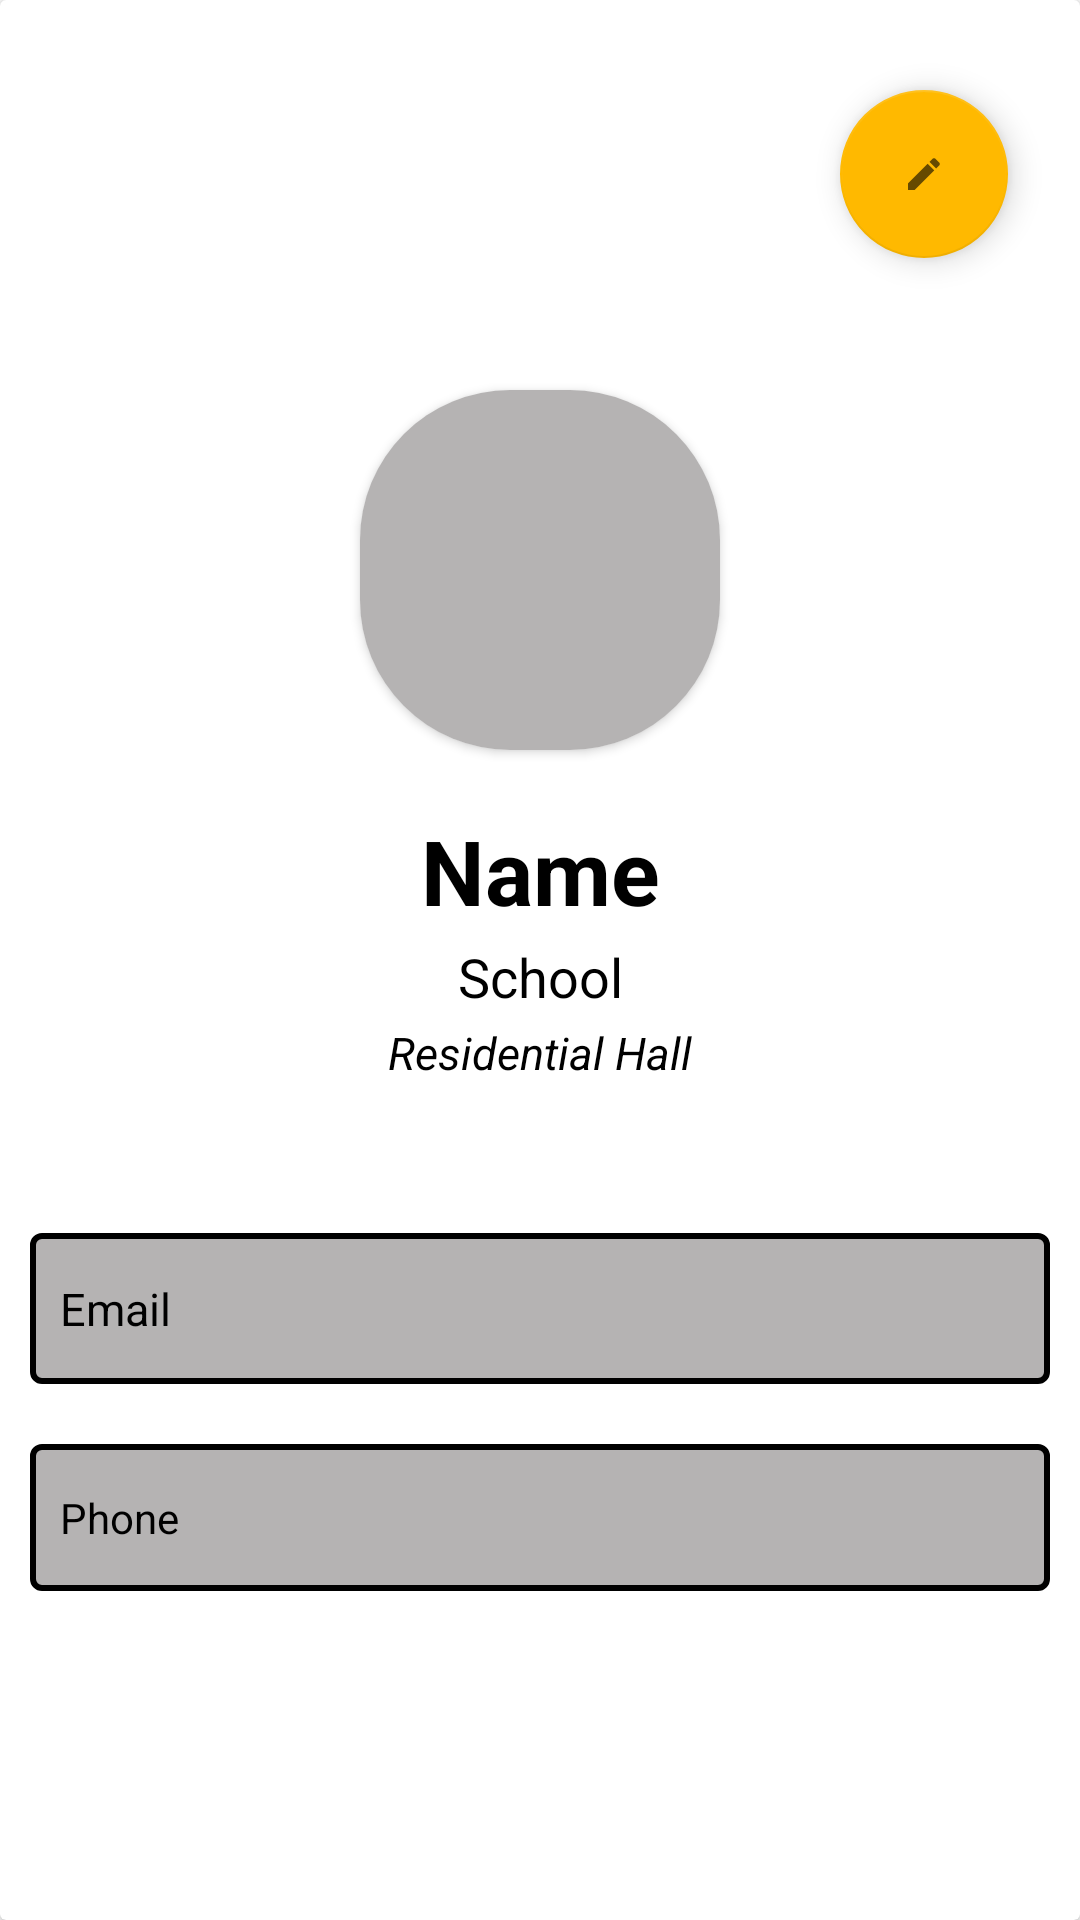

Icons on this 1080*1920 Android screen, each with the point to tap as (x,y):
editpen: (924,174)
